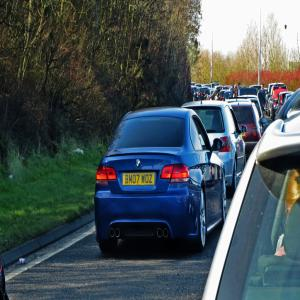Vehicle-registration-plate: (122, 173, 155, 187)
